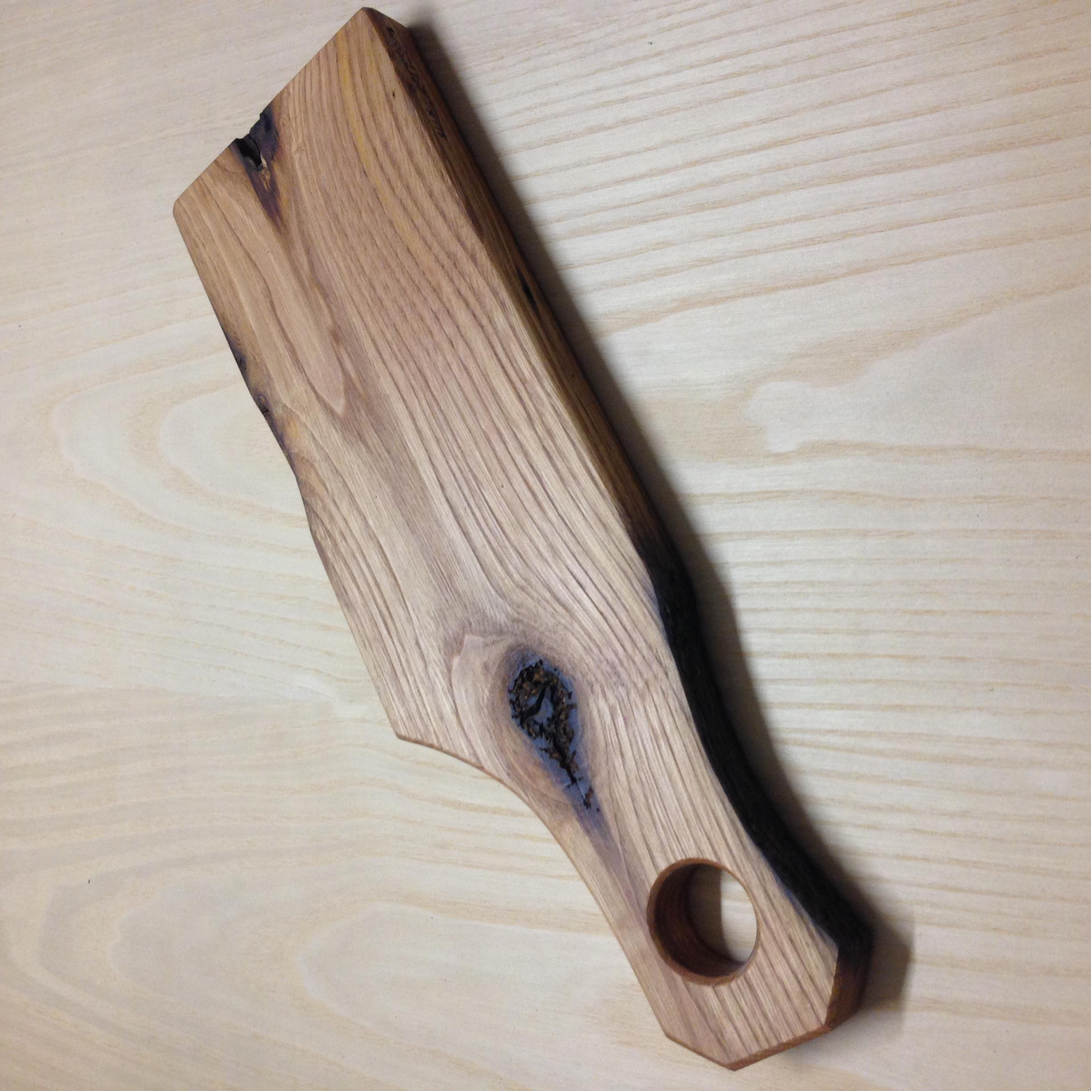gloved_hand: (23, 165, 1090, 863)
